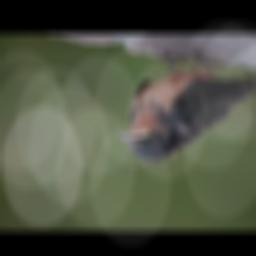Swallow: (117, 49, 256, 162)
